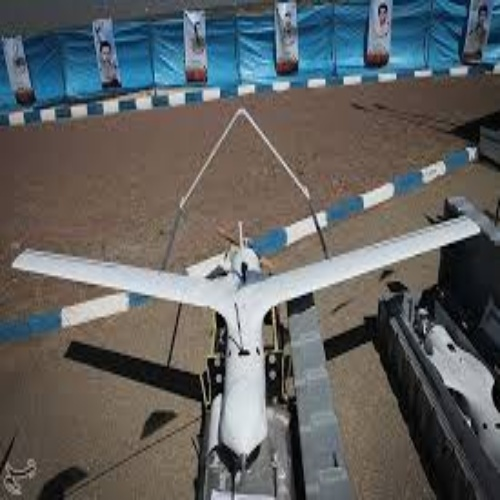uav: (9, 216, 480, 467)
